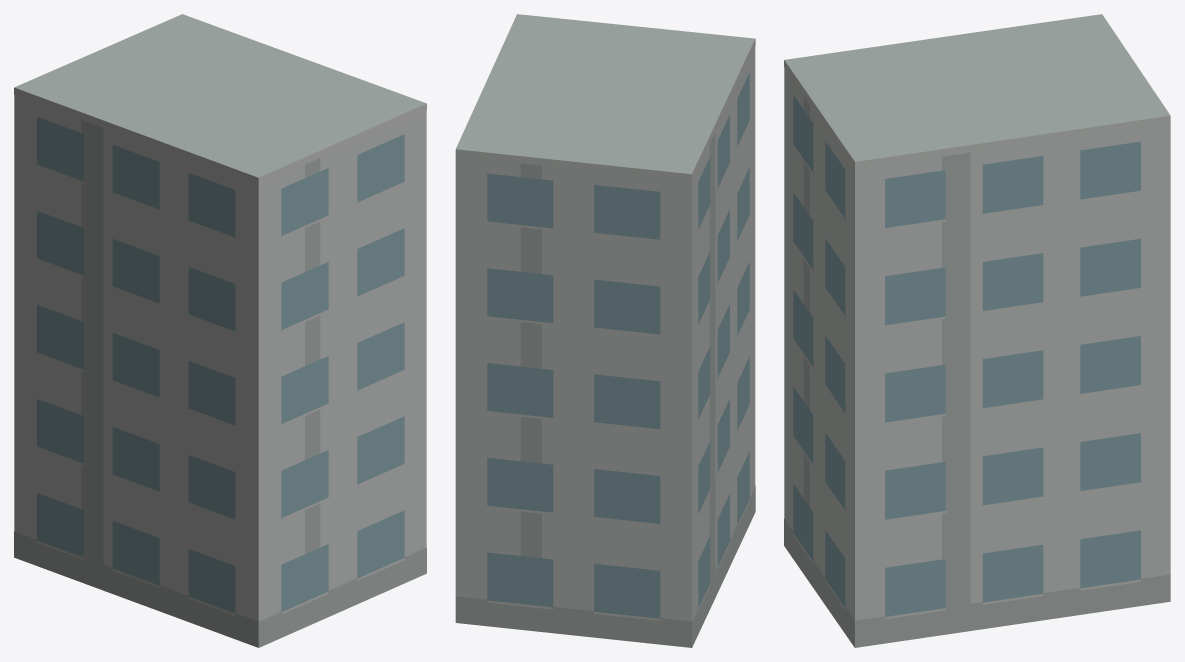
File: survey-upis-33040084.glb
3 views of the same model, side by side, from view 1: azimuth 30°, elevation 25°; view 2: azimuth 150°, elevation 25°; view 3: azimuth 270°, elevation 25° (orthographic). The views are drawn at different scales.
Parts seen in each view (by area): view 1: survey-upis-33040084.tmp; view 2: survey-upis-33040084.tmp; view 3: survey-upis-33040084.tmp.
Boxes of the visible parts, x1,y1,x2,y2 form: survey-upis-33040084.tmp: (14, 14, 426, 647); survey-upis-33040084.tmp: (455, 14, 755, 647); survey-upis-33040084.tmp: (784, 14, 1170, 647).
Bounding box in the file's own units: 10.22 × 15.65 × 11.29.
